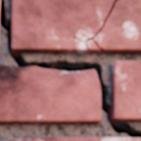brick: (11, 0, 140, 55), (0, 65, 100, 124), (110, 62, 140, 122), (15, 138, 140, 140)
crack: (0, 0, 140, 138), (72, 0, 120, 50)
